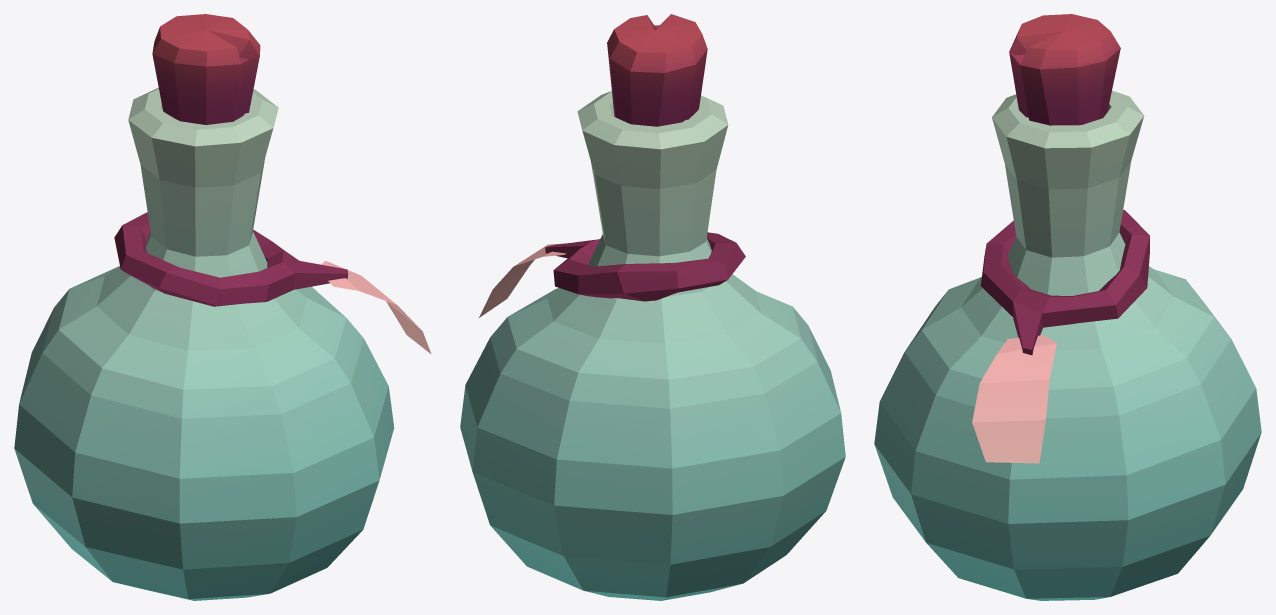
File: potion_sharp.fbx
3 renders of one model, left to right at view 1: azimuth 30°, elevation 25°; view 2: azimuth 150°, elevation 25°; view 3: azimuth 270°, elevation 25°, orthographic.
Visible parts, largest first — view 1: Sphere, Plane; view 2: Sphere, Plane; view 3: Sphere, Plane.
Boxes of the visible parts, x1,y1,x2,y2 form: Sphere: (14, 88, 394, 600); Plane: (114, 14, 431, 354); Sphere: (460, 91, 845, 600); Plane: (479, 14, 745, 317); Sphere: (874, 90, 1261, 600); Plane: (972, 14, 1149, 463).
Bounding box in the file's own units: 175 × 259 × 168.
